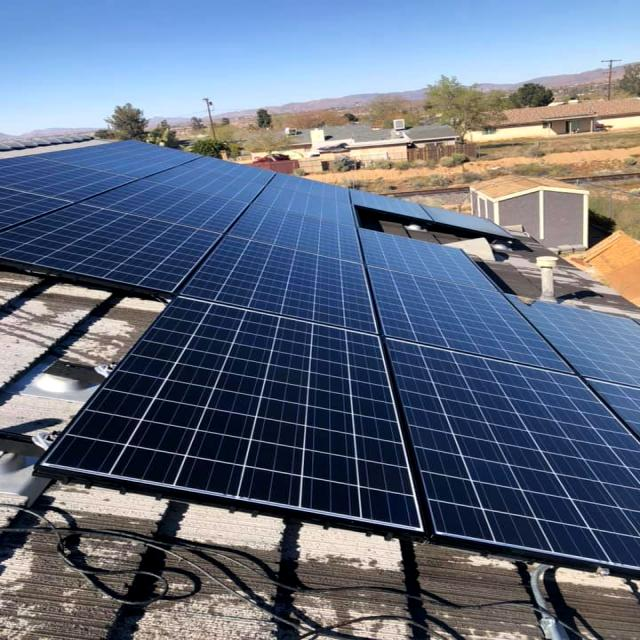crack: (11, 282, 450, 550), (354, 321, 640, 619), (0, 119, 329, 303), (202, 175, 384, 320)
